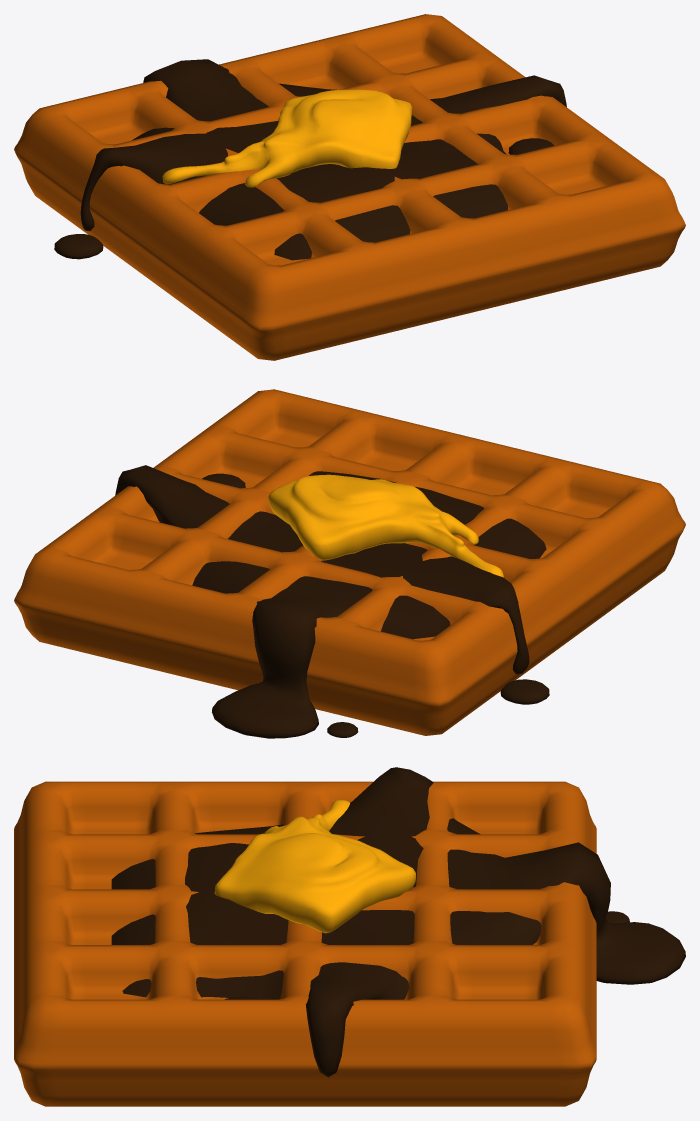
Rendered from Waffle.fbx.
3 renders of one model, top to bottom at view 1: azimuth 30°, elevation 25°; view 2: azimuth 150°, elevation 25°; view 3: azimuth 270°, elevation 25°, orthographic. The views are drawn at different scales.
Visible parts, largest first — view 1: waffel, Main_syrup, butter, puddle_3; view 2: waffel, Main_syrup, butter, puddle_3; view 3: waffel, Main_syrup, butter.
Part boxes in pixels (x1,y1,x2,y2): waffel: (14, 14, 685, 360); Main_syrup: (80, 59, 566, 260); butter: (162, 89, 412, 187); puddle_3: (54, 234, 103, 259); waffel: (14, 389, 685, 735); Main_syrup: (115, 465, 546, 738); butter: (268, 474, 503, 577); puddle_3: (500, 679, 549, 704); waffel: (14, 781, 596, 1106); Main_syrup: (111, 767, 685, 1077); butter: (214, 800, 415, 933).
Size of the model in its own units: 1.72 by 0.4394 by 1.83.
